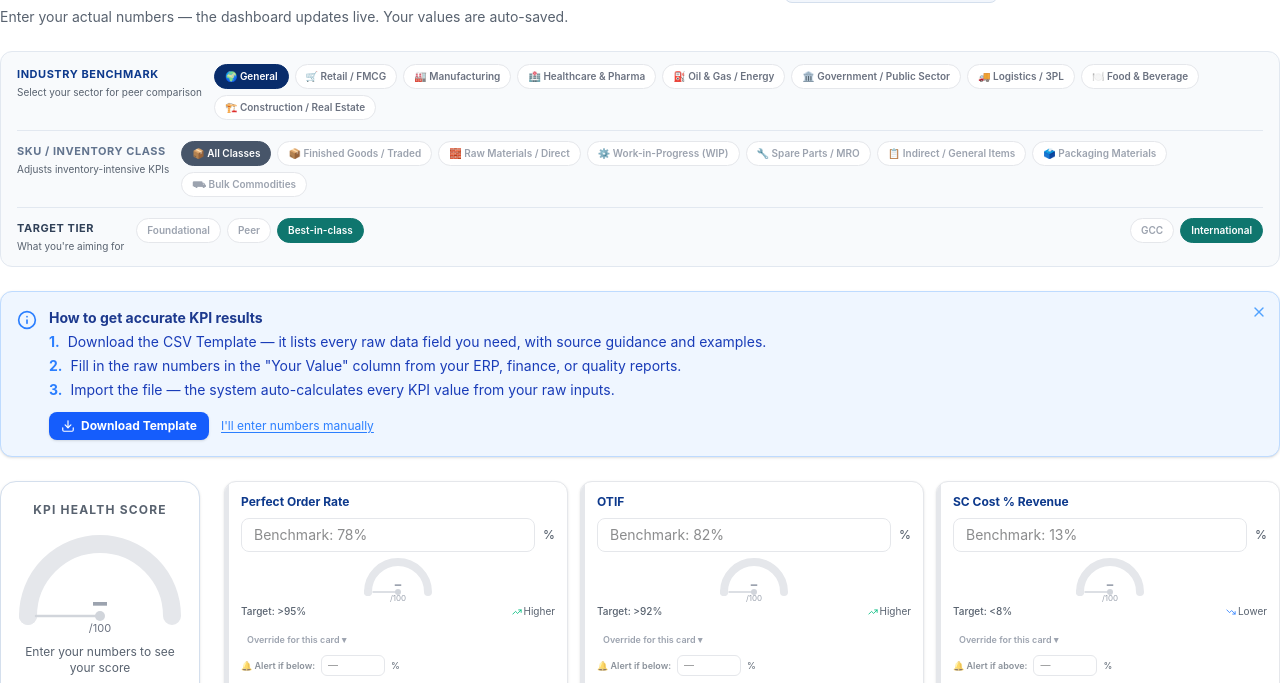
Test: KPI bar chart — conditional rendering on hasAnyValue › renders .kpi-chart-wrap once a valid value is entered in any KPI field
// Enter a valid numeric value into the first KPI input.
Step 1. Type "85" into the number field labelled "Perfect Order Rate" → (388, 535), box x1=241 y1=518 x2=535 y2=552
(page scrolled)
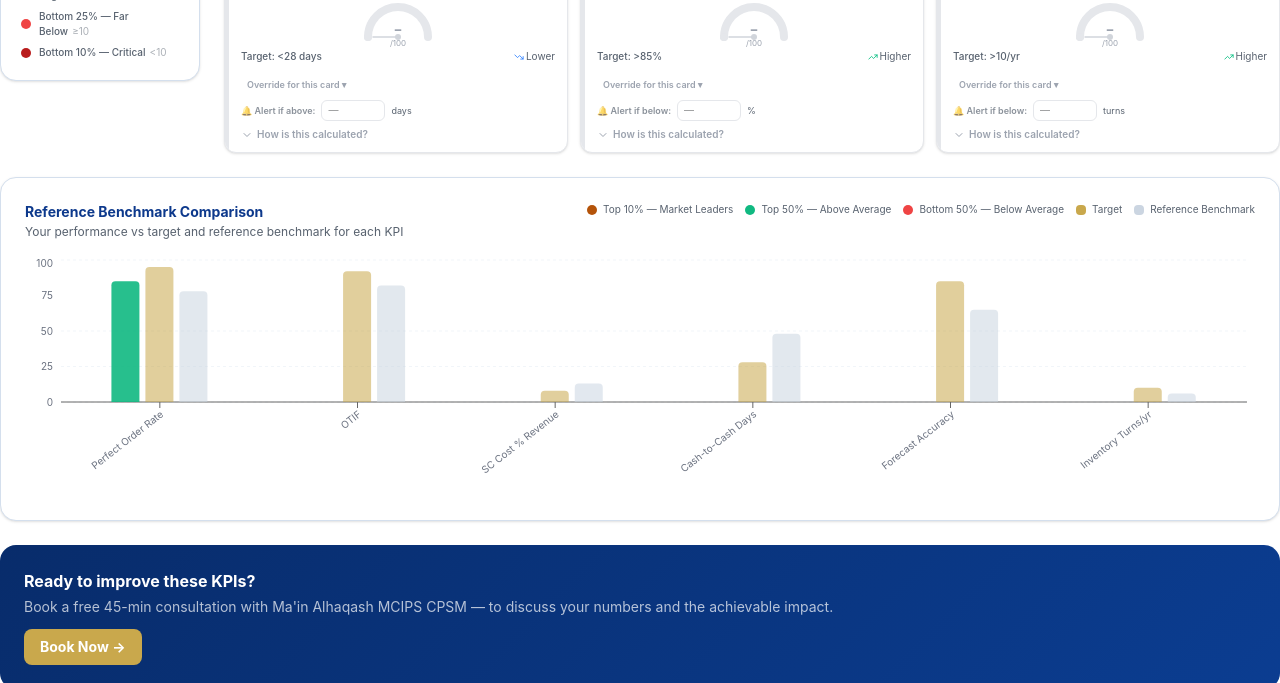
Expected: the element with class "kpi-chart-wrap" is shown, x1=0 y1=177 x2=1279 y2=521
